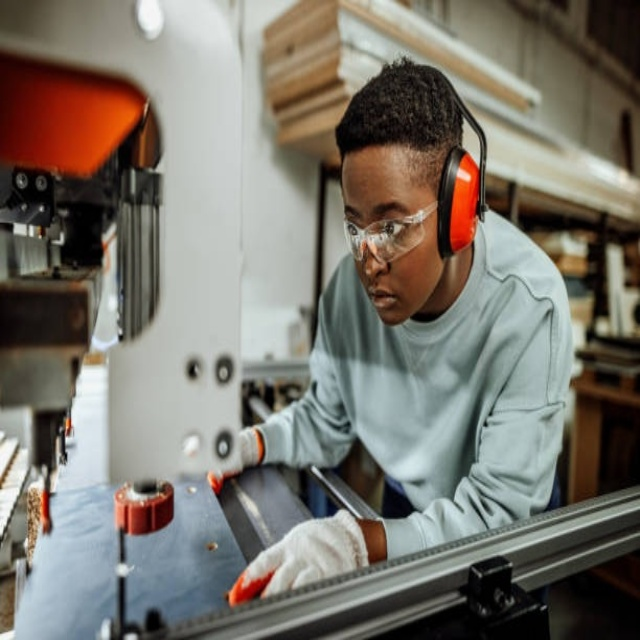Gafas: (342, 198, 442, 265)
Guantes: (231, 508, 370, 604), (205, 425, 265, 493)
Sin_mascara: (366, 281, 403, 326)
